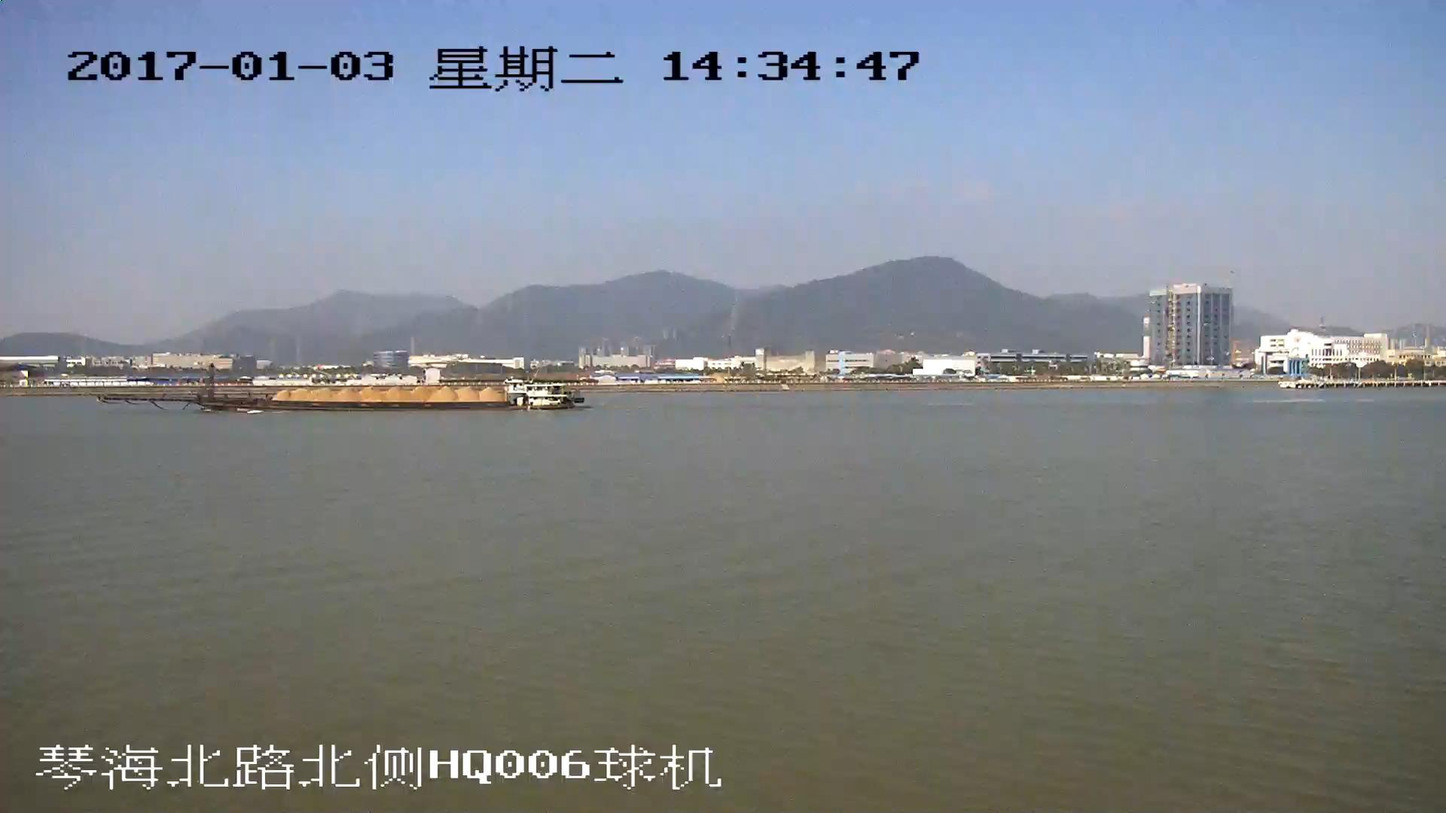ore carrier: (98, 370, 580, 414)
